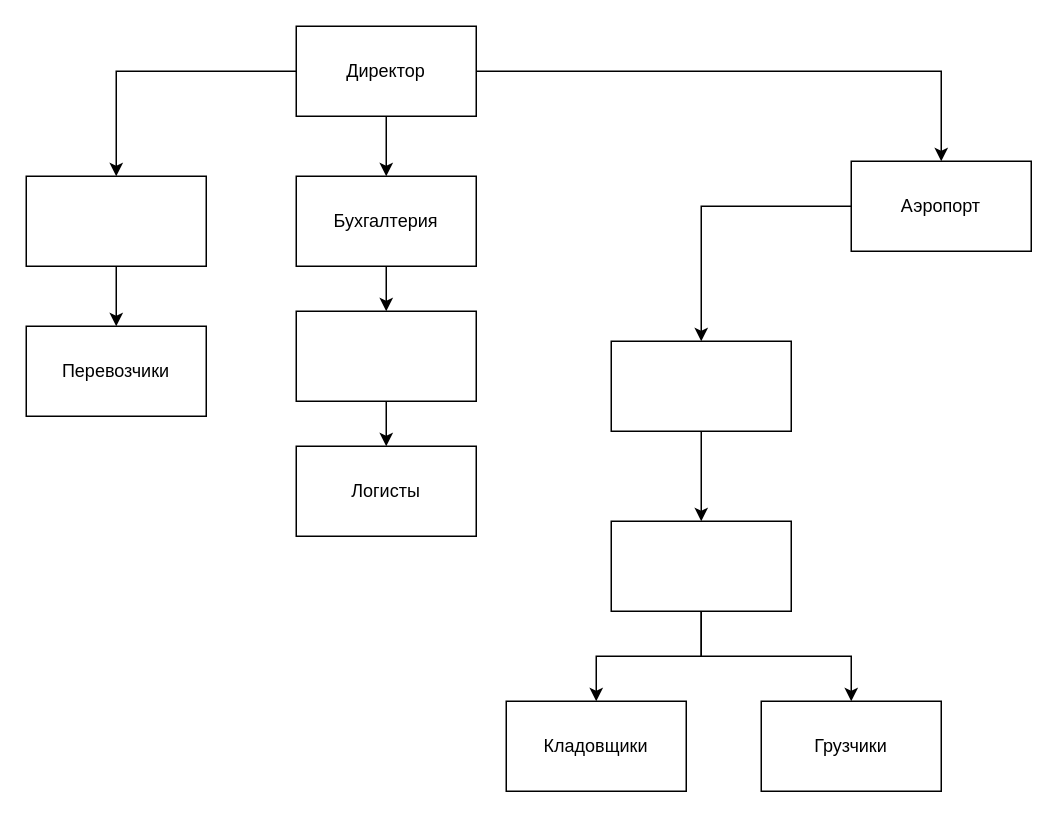
The diagram is 1058 pixels wide and 818 high, and some of its shapes have lost their labels. The centre of each missing label's shape, as x and y in pixels:
"Главный бухгалтер" belongs at pixel 385 355.
"Заведующий складом" belongs at pixel 700 565.
"Отдел доставки" belongs at pixel 115 220.
"Склад" belongs at pixel 700 385.
